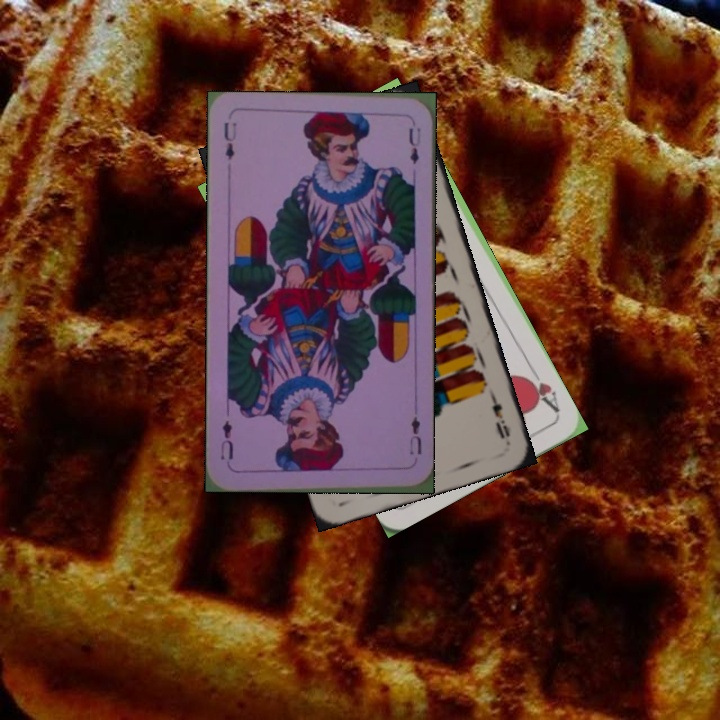E9: (485, 387, 513, 442)
EU: (405, 413, 424, 467), (220, 118, 239, 162)
HA: (520, 362, 563, 416)
